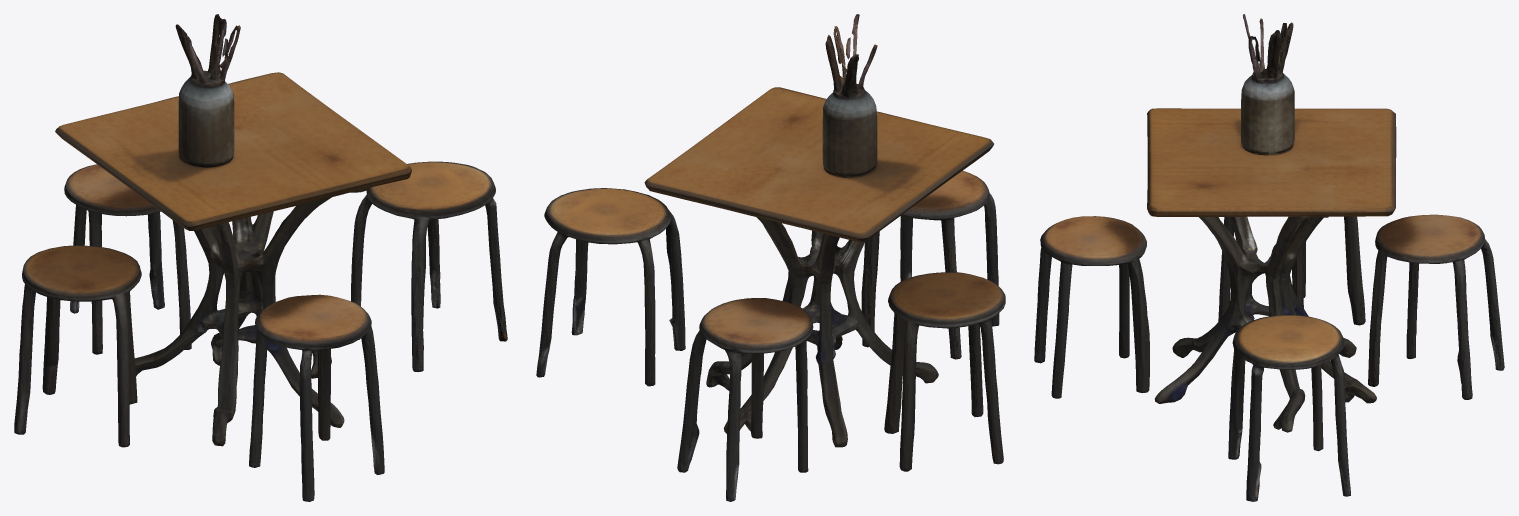
3 views of the same model, side by side, from view 1: azimuth 30°, elevation 25°; view 2: azimuth 150°, elevation 25°; view 3: azimuth 270°, elevation 25° (orthographic). The views are drawn at different scales.
Visible parts, largest first — view 1: world.002; view 2: world.002; view 3: world.002.
Boxes of the visible parts, box(x1,y1,x2,y2) form: world.002: box(14, 14, 507, 501); world.002: box(536, 14, 1005, 501); world.002: box(1034, 14, 1504, 501).
Bounding box in the file's own units: 96.78 × 79.11 × 92.21.
Materials: 1 (1 with a texture image).
